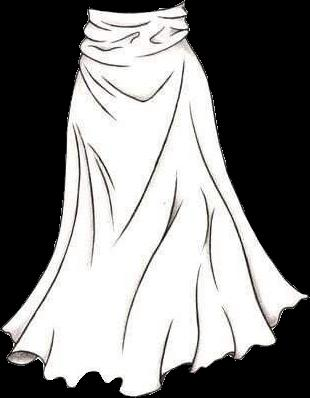Hemline: (0, 295, 309, 397)
Waistline: (86, 0, 184, 14)
